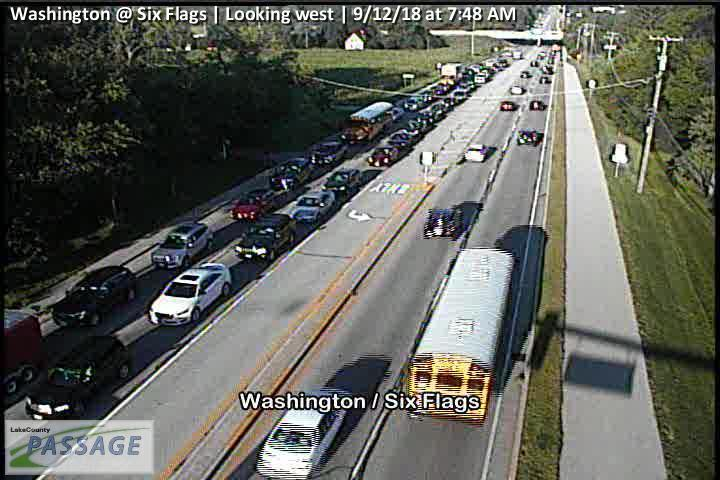Bus: (404, 245, 516, 428), (341, 99, 394, 147), (310, 137, 344, 165)
SUV: (22, 332, 132, 421), (49, 264, 140, 335), (234, 212, 296, 269), (149, 222, 214, 272), (321, 167, 366, 202), (421, 207, 464, 243), (290, 191, 335, 225), (270, 156, 311, 190), (463, 142, 490, 163), (516, 127, 541, 146), (403, 94, 423, 112), (529, 100, 544, 110), (510, 85, 524, 95), (519, 70, 528, 78)
Sedan: (252, 385, 353, 480), (147, 261, 233, 328), (231, 187, 278, 220), (367, 146, 400, 168), (499, 100, 516, 112), (392, 105, 403, 120)
